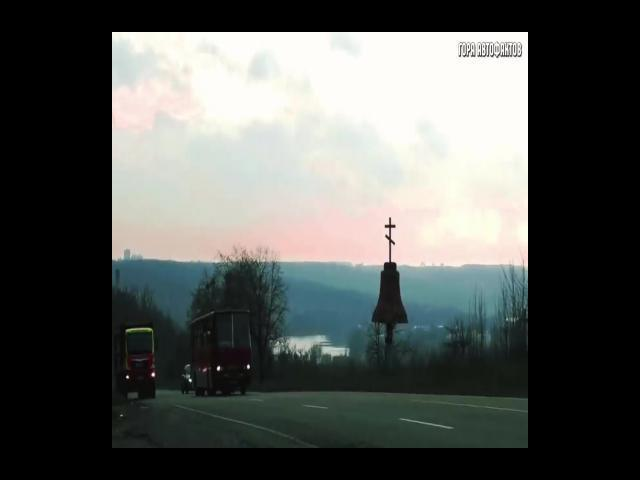bus: (188, 311, 252, 397)
truck: (114, 321, 165, 406)
